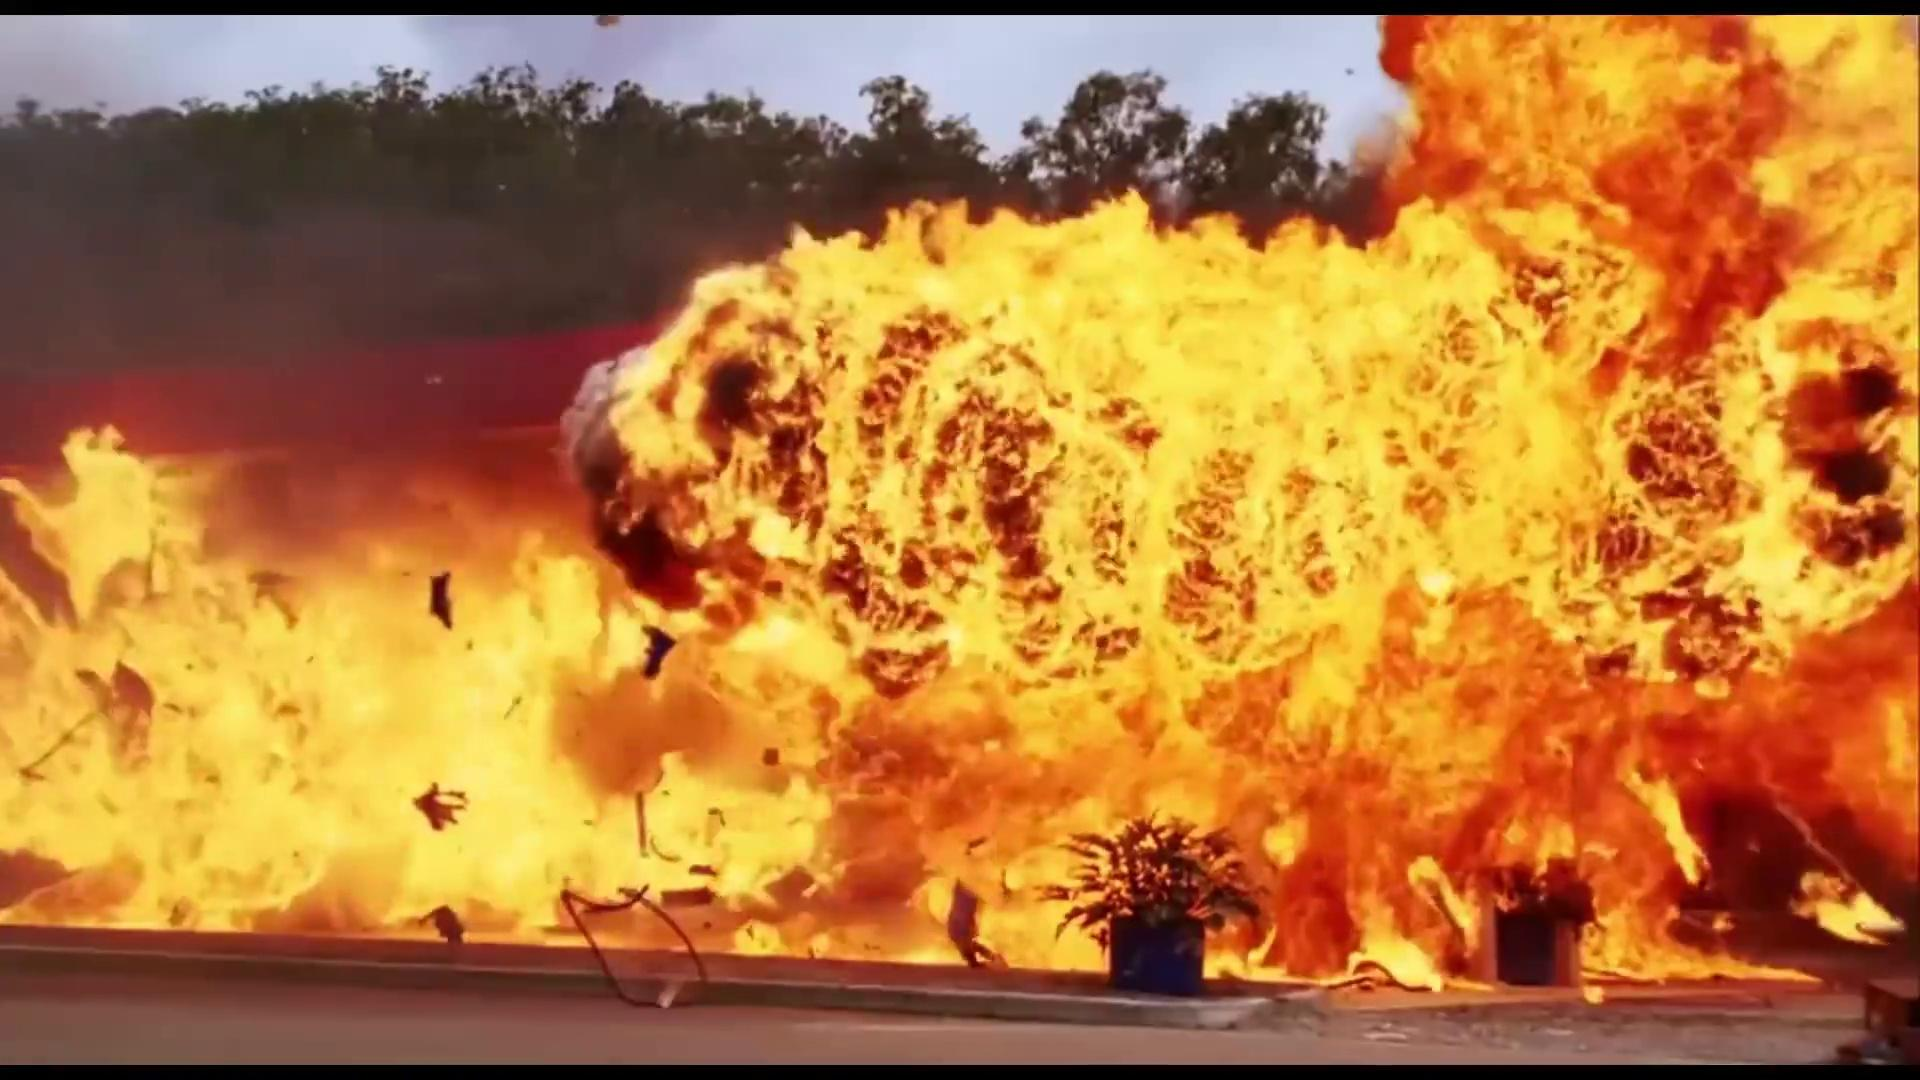fire: (0, 13, 1920, 1000)
